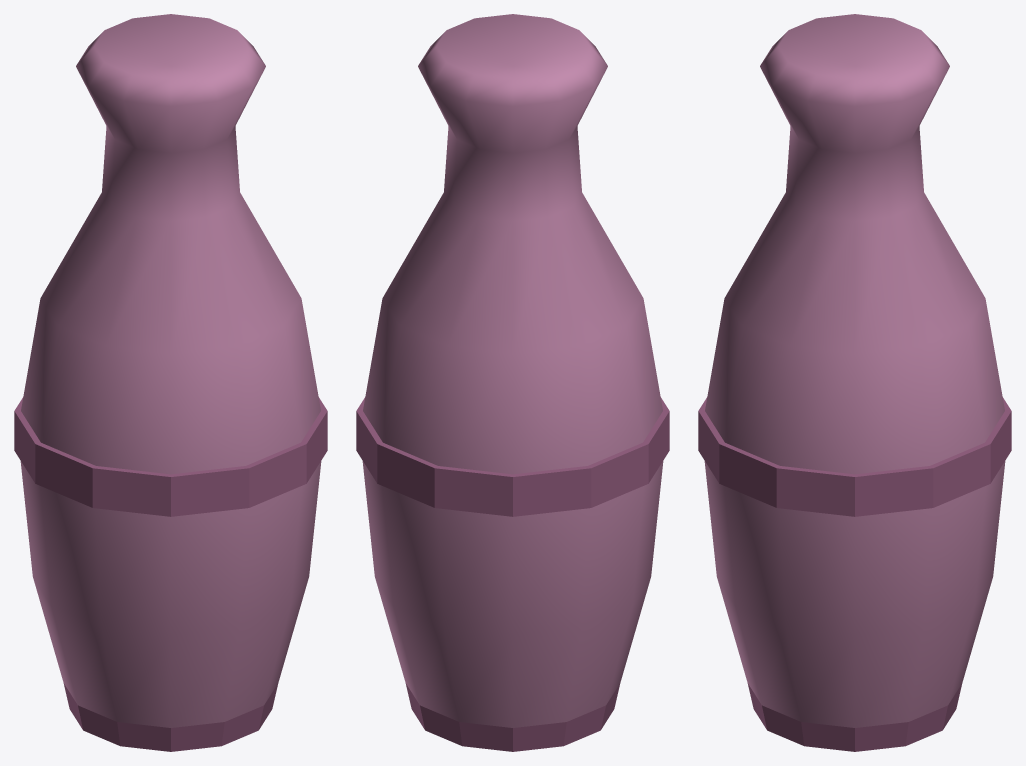
File: pink_dungeon_vase_v0.glb
3 renders of one model, left to right at view 1: azimuth 30°, elevation 25°; view 2: azimuth 150°, elevation 25°; view 3: azimuth 270°, elevation 25°, orthographic.
Parts seen in each view (by area): view 1: pink_dungeon_vase_v0; view 2: pink_dungeon_vase_v0; view 3: pink_dungeon_vase_v0.
Boxes of the visible parts, bbox=[...] form: pink_dungeon_vase_v0: bbox=[14, 14, 327, 751]; pink_dungeon_vase_v0: bbox=[356, 14, 669, 751]; pink_dungeon_vase_v0: bbox=[698, 14, 1011, 751].
Bounding box in the file's own units: 0.4284 × 1 × 0.4284.
